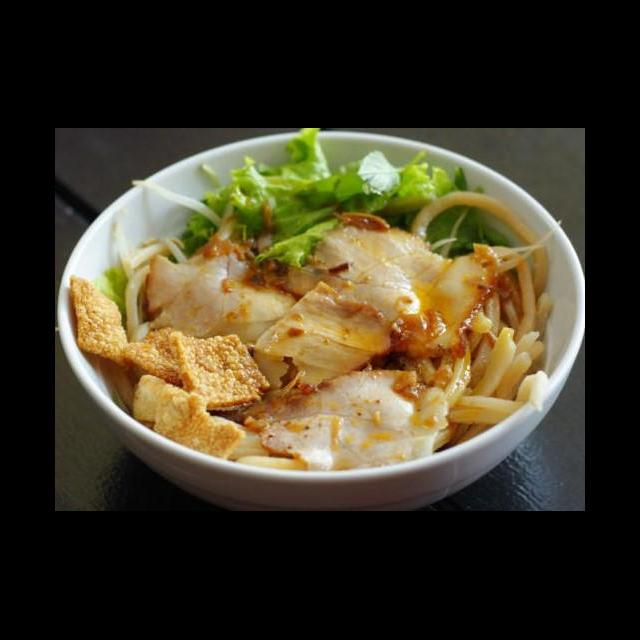banh da: (126, 373, 246, 468), (165, 328, 273, 414), (64, 270, 140, 376), (118, 324, 209, 394)
mi: (396, 242, 561, 454), (406, 186, 553, 308), (202, 410, 308, 474), (119, 232, 174, 350)
mi quang: (63, 149, 583, 512)
thit heo: (257, 208, 504, 366), (135, 232, 311, 396), (233, 364, 463, 474), (237, 276, 399, 406)
